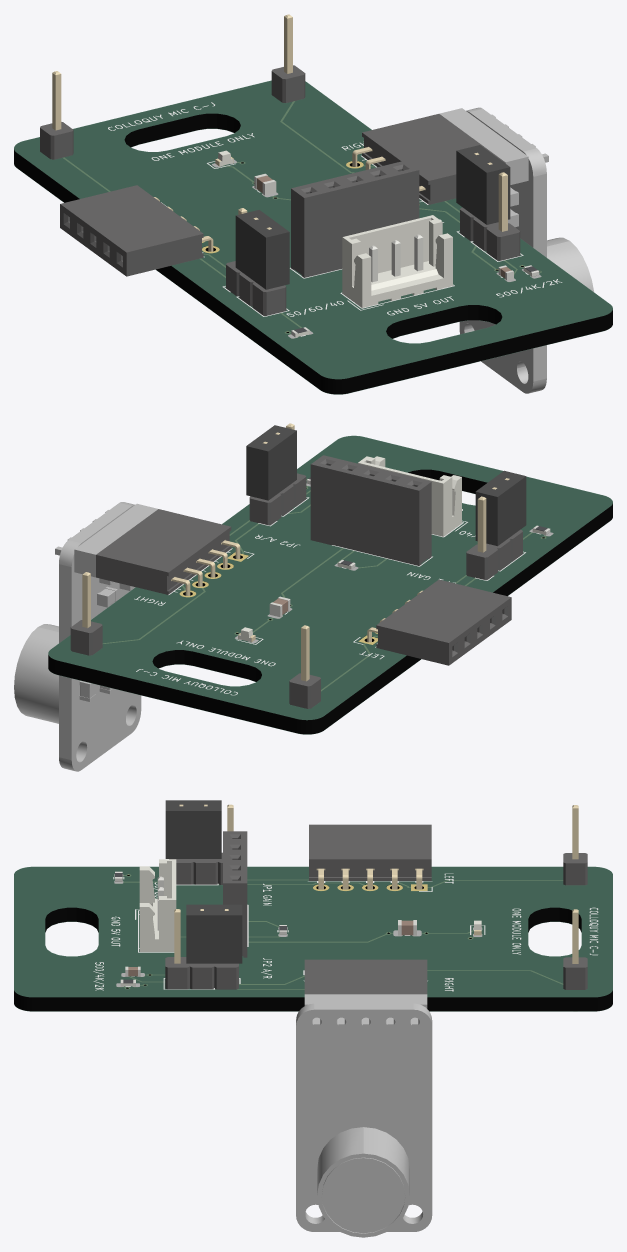
File: microphone-flex-right.glb
The picture shows the model from 3 angles, top to bottom: view 1: azimuth 30°, elevation 25°; view 2: azimuth 150°, elevation 25°; view 3: azimuth 270°, elevation 25°; orthographic projection. The views are drawn at different scales.
Visible parts, largest first — view 1: microphone-flex-right_visual_layers_1, microphone-flex-right_visual_layers_4, M1, VISUAL_MODULE_RIGHT, J2, J1, J3, JP1.001, JP2.001, JP2, JP1, microphone-flex-right_visual_layers_7 (+4 smaller); view 2: microphone-flex-right_visual_layers_1, microphone-flex-right_visual_layers_4, VISUAL_MODULE_RIGHT, M1, J3, J2, JP2.001, JP1.001, JP1, J1, JP2, TP1 (+3 smaller); view 3: microphone-flex-right_visual_layers_1, microphone-flex-right_visual_layers_4, VISUAL_MODULE_RIGHT, J2, J3, JP2.001, JP1.001, J1, JP2, M1, microphone-flex-right_visual_layers_7, JP1 (+2 smaller).
Part boxes in pixels (x1=…): microphone-flex-right_visual_layers_1: x1=14, y1=81, x2=612, y2=394; microphone-flex-right_visual_layers_4: x1=14, y1=80, x2=612, y2=379; M1: x1=291, y1=160, x2=419, y2=277; VISUAL_MODULE_RIGHT: x1=439, y1=107, x2=593, y2=393; J2: x1=60, y1=185, x2=213, y2=276; J1: x1=342, y1=215, x2=452, y2=307; J3: x1=352, y1=114, x2=505, y2=204; JP1.001: x1=235, y1=210, x2=289, y2=289; JP2.001: x1=456, y1=145, x2=510, y2=224; JP2: x1=460, y1=152, x2=520, y2=260; JP1: x1=226, y1=208, x2=286, y2=315; microphone-flex-right_visual_layers_7: x1=108, y1=102, x2=562, y2=336; microphone-flex-right_visual_layers_1: x1=48, y1=436, x2=612, y2=734; microphone-flex-right_visual_layers_4: x1=48, y1=435, x2=612, y2=720; VISUAL_MODULE_RIGHT: x1=14, y1=502, x2=157, y2=771; M1: x1=310, y1=455, x2=431, y2=565; J3: x1=96, y1=509, x2=240, y2=595; J2: x1=367, y1=579, x2=511, y2=665; JP2.001: x1=246, y1=425, x2=296, y2=500; JP1.001: x1=475, y1=470, x2=526, y2=546; JP1: x1=466, y1=478, x2=522, y2=579; J1: x1=358, y1=456, x2=461, y2=536; JP2: x1=249, y1=423, x2=306, y2=525; TP1: x1=70, y1=572, x2=102, y2=655; microphone-flex-right_visual_layers_1: x1=14, y1=867, x2=612, y2=1011; microphone-flex-right_visual_layers_4: x1=14, y1=866, x2=612, y2=997; VISUAL_MODULE_RIGHT: x1=296, y1=994, x2=432, y2=1237; J2: x1=309, y1=824, x2=431, y2=889; J3: x1=304, y1=959, x2=427, y2=994; JP2.001: x1=186, y1=904, x2=242, y2=963; JP1.001: x1=165, y1=800, x2=221, y2=858; J1: x1=139, y1=859, x2=176, y2=951; JP2: x1=165, y1=909, x2=238, y2=989; M1: x1=223, y1=831, x2=247, y2=957; microphone-flex-right_visual_layers_7: x1=93, y1=873, x2=598, y2=991; JP1: x1=169, y1=804, x2=233, y2=884.
Bounding box in the file's own units: 0.0522 × 0.0313 × 0.062.
